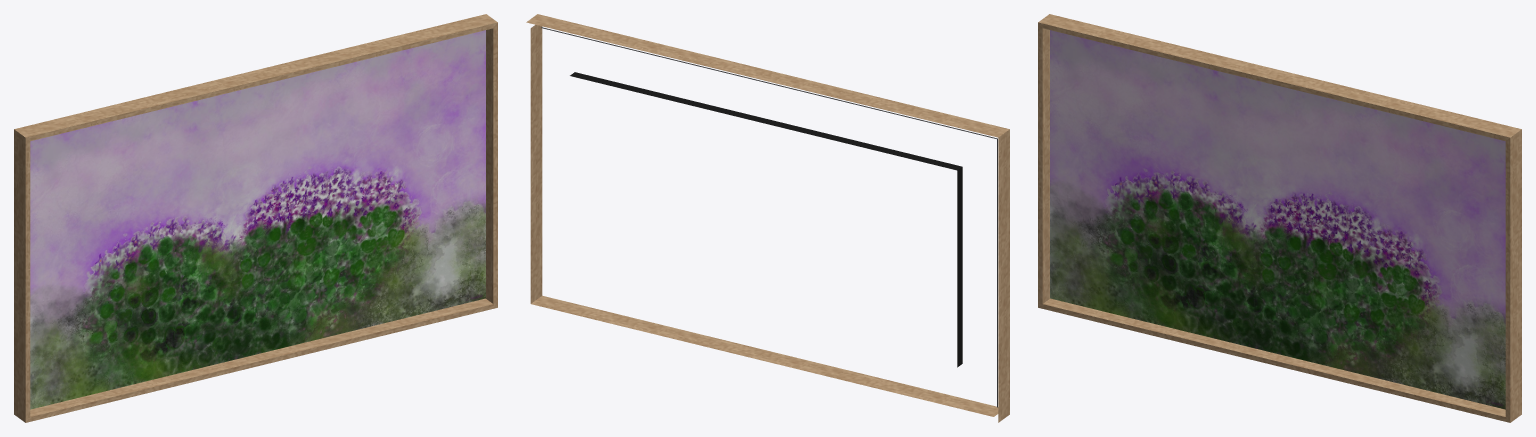
File: hz057_moyen_caisse-chene.glb
3 views of the same model, side by side, from view 1: azimuth 30°, elevation 25°; view 2: azimuth 150°, elevation 25°; view 3: azimuth 330°, elevation 25° (orthographic).
Parts seen in each view (by area): view 1: hz057_moyen_caisse-chene; view 2: hz057_moyen_caisse-chene; view 3: hz057_moyen_caisse-chene.
Part boxes in pixels (x1=…): hz057_moyen_caisse-chene: x1=14, y1=14, x2=497, y2=422; hz057_moyen_caisse-chene: x1=526, y1=14, x2=1009, y2=422; hz057_moyen_caisse-chene: x1=1038, y1=14, x2=1521, y2=422.
Size of the model in its own units: 0.828 by 0.478 by 0.035.
4 materials, 2 textured.
